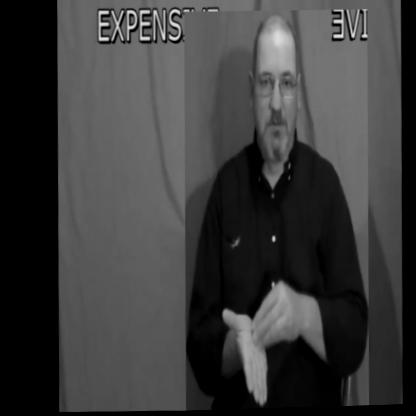Expensive: (176, 7, 373, 412)
